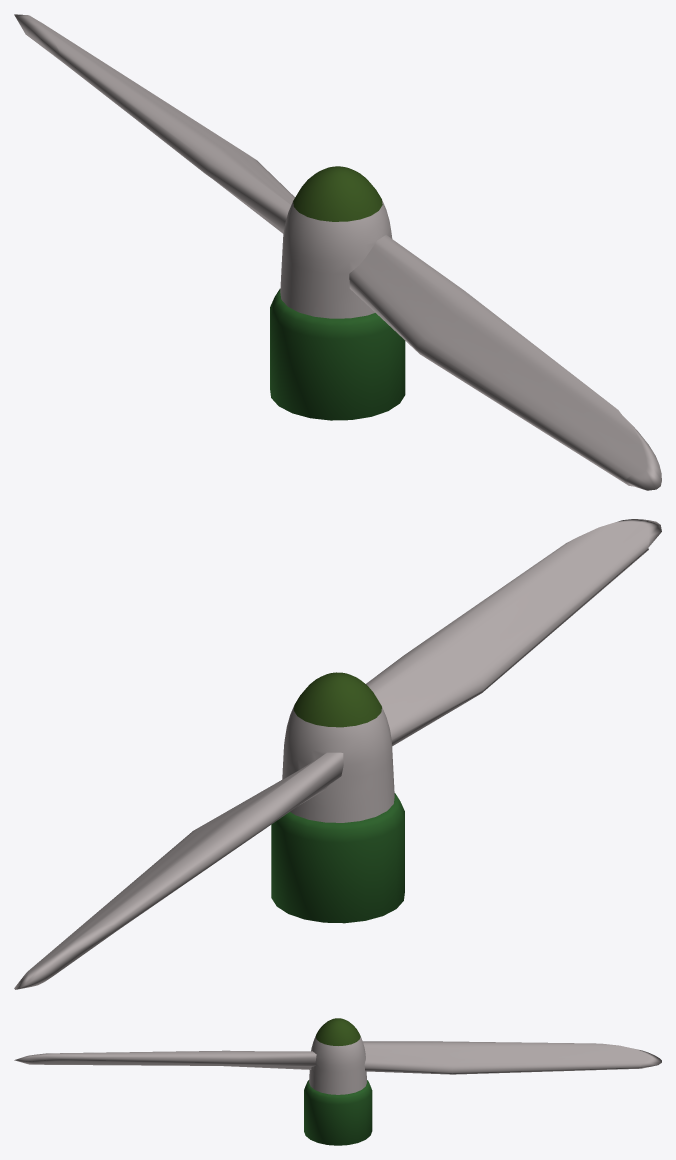
The model's file is propellor_02_green.28c853b5.glb.
3 renders of one model, top to bottom at view 1: azimuth 30°, elevation 25°; view 2: azimuth 150°, elevation 25°; view 3: azimuth 270°, elevation 25°, orthographic. The views are drawn at different scales.
Visible parts, largest first — view 1: Rotor1_shd_white_0; view 2: Rotor1_shd_white_0; view 3: Rotor1_shd_white_0.
Part boxes in pixels (x1,y1,x2,y2): Rotor1_shd_white_0: [14, 14, 661, 490]; Rotor1_shd_white_0: [14, 519, 661, 989]; Rotor1_shd_white_0: [14, 1018, 661, 1145].
Size of the model in its own units: 1.05 by 1.89 by 9.93.
